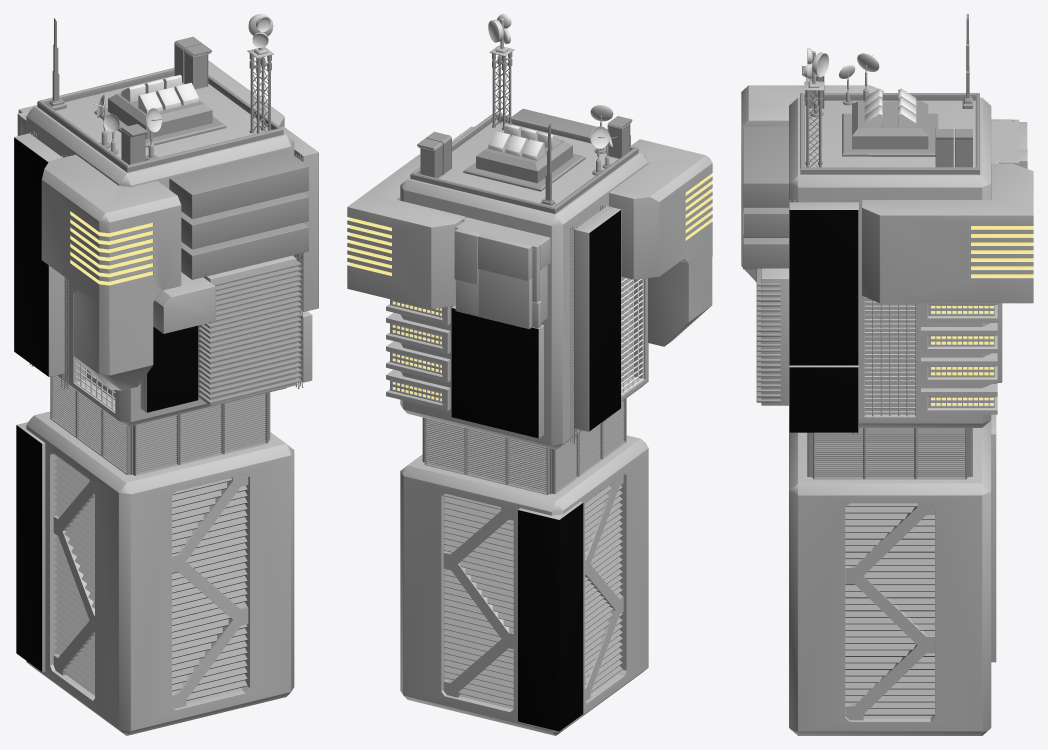
3 views of the same model, side by side, from view 1: azimuth 30°, elevation 25°; view 2: azimuth 150°, elevation 25°; view 3: azimuth 270°, elevation 25° (orthographic). The views are drawn at different scales.
Visible parts, largest first — view 1: Boole_2_2_Antenna_02_0, TopCornerElement_01_TopCornerElement_01_Sub_Antenna_02_0, ClonerLowerElements_Antenna_03_0, Cloner_2_Base_03_0, MidSectionsClonerRot_Antenna_03_0, OutsideGrid_Antenna_03_0, Billboard_01_1_2_Poster_06_0, ClonerLowerElements_Antenna_02_0, LowCornerDisplay_Poster_01.1_0, LowBlock_01_Antenna_02_0, Cube_4_4_2_Poster_03_0, TopFence_2_2_Antenna_03_0 (+14 smaller); view 2: Boole_2_2_Antenna_02_0, ClonerLowerElements_Antenna_03_0, TopCornerElement_01_TopCornerElement_01_Sub_Antenna_02_0, LowCornerDisplay_Poster_01.1_0, TopCornerElement_02_TopCornerElement_01_Sub_Antenna_02_0, TopBlock_02_Poster_05_0, MidSectionsClonerRot_Antenna_03_0, Divider_Antenna_02_0, Billboard_01_1_2_Poster_06_0, ClonerLowerElements_Antenna_02_0, ClonerBlocksWithWindows_Antenna_02_0, Billboard_01_1_2_Antenna_02_0 (+13 smaller); view 3: Boole_2_2_Antenna_02_0, TopCornerElement_02_TopCornerElement_01_Sub_Antenna_02_0, ClonerLowerElements_Antenna_03_0, Billboard_01_3_Poster_04_0, MidSectionsClonerRot_Antenna_03_0, ClonerBlocksWithWindows_Antenna_02_0, Cloner_2_Base_03_0, Billboard_02_3_Poster_05_0, ClonerLowerElements_Antenna_02_0, RoofCentralElement_Antenna_03_0, MainBody_3_2_Antenna_03_0, Plane_2_2_2_Antenna_02_0 (+11 smaller).
Boxes of the visible parts, left/top/right/bottom form: Boole_2_2_Antenna_02_0: left=26, top=75, right=294, bottom=735; TopCornerElement_01_TopCornerElement_01_Sub_Antenna_02_0: left=41, top=154, right=181, bottom=390; ClonerLowerElements_Antenna_03_0: left=54, top=454, right=247, bottom=703; Cloner_2_Base_03_0: left=169, top=150, right=308, bottom=279; MidSectionsClonerRot_Antenna_03_0: left=50, top=375, right=270, bottom=475; OutsideGrid_Antenna_03_0: left=198, top=260, right=301, bottom=403; Billboard_01_1_2_Poster_06_0: left=14, top=138, right=48, bottom=376; ClonerLowerElements_Antenna_02_0: left=53, top=474, right=248, bottom=708; LowCornerDisplay_Poster_01.1_0: left=16, top=425, right=41, bottom=671; LowBlock_01_Antenna_02_0: left=198, top=255, right=296, bottom=405; Cube_4_4_2_Poster_03_0: left=147, top=325, right=198, bottom=412; TopFence_2_2_Antenna_03_0: left=37, top=68, right=283, bottom=172; Boole_2_2_Antenna_02_0: left=400, top=120, right=648, bottom=735; ClonerLowerElements_Antenna_03_0: left=443, top=481, right=622, bottom=709; TopCornerElement_01_TopCornerElement_01_Sub_Antenna_02_0: left=609, top=139, right=712, bottom=346; LowCornerDisplay_Poster_01.1_0: left=518, top=503, right=583, bottom=731; TopCornerElement_02_TopCornerElement_01_Sub_Antenna_02_0: left=347, top=154, right=465, bottom=309; TopBlock_02_Poster_05_0: left=451, top=308, right=538, bottom=438; MidSectionsClonerRot_Antenna_03_0: left=422, top=398, right=626, bottom=494; Divider_Antenna_02_0: left=454, top=217, right=550, bottom=329; Billboard_01_1_2_Poster_06_0: left=589, top=210, right=620, bottom=431; ClonerLowerElements_Antenna_02_0: left=443, top=474, right=623, bottom=701; ClonerBlocksWithWindows_Antenna_02_0: left=386, top=299, right=450, bottom=410; Billboard_01_1_2_Antenna_02_0: left=574, top=206, right=621, bottom=431; Boole_2_2_Antenna_02_0: left=789, top=97, right=991, bottom=735; TopCornerElement_02_TopCornerElement_01_Sub_Antenna_02_0: left=862, top=163, right=1033, bottom=303; ClonerLowerElements_Antenna_03_0: left=845, top=503, right=934, bottom=718; Billboard_01_3_Poster_04_0: left=789, top=210, right=858, bottom=365; MidSectionsClonerRot_Antenna_03_0: left=807, top=428, right=972, bottom=479; ClonerBlocksWithWindows_Antenna_02_0: left=921, top=303, right=997, bottom=414; Cloner_2_Base_03_0: left=743, top=126, right=788, bottom=268; Billboard_02_3_Poster_05_0: left=789, top=367, right=858, bottom=432; ClonerLowerElements_Antenna_02_0: left=845, top=503, right=934, bottom=720; RoofCentralElement_Antenna_03_0: left=842, top=101, right=938, bottom=156; MainBody_3_2_Antenna_03_0: left=811, top=428, right=968, bottom=477; Plane_2_2_2_Antenna_02_0: left=864, top=297, right=915, bottom=416.
Bounding box in the file's own units: 32.22 × 83.26 × 32.52.
